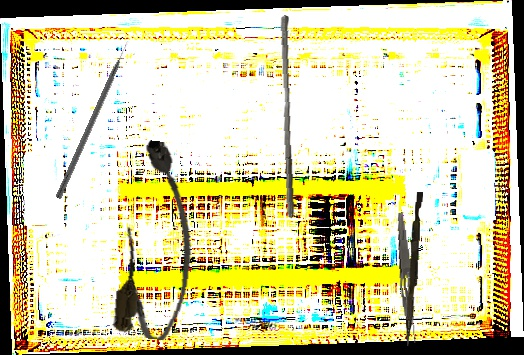Cannula: (111, 138, 206, 343)
Dressing Forceps: (391, 212, 420, 344)
Hook Surgical: (55, 39, 133, 201)
Pusher: (273, 14, 303, 219), (404, 191, 424, 347)
